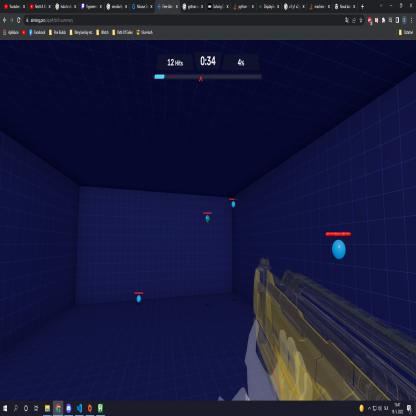sphere: (332, 239, 346, 260), (205, 215, 210, 223), (136, 294, 141, 302), (231, 201, 236, 207)
